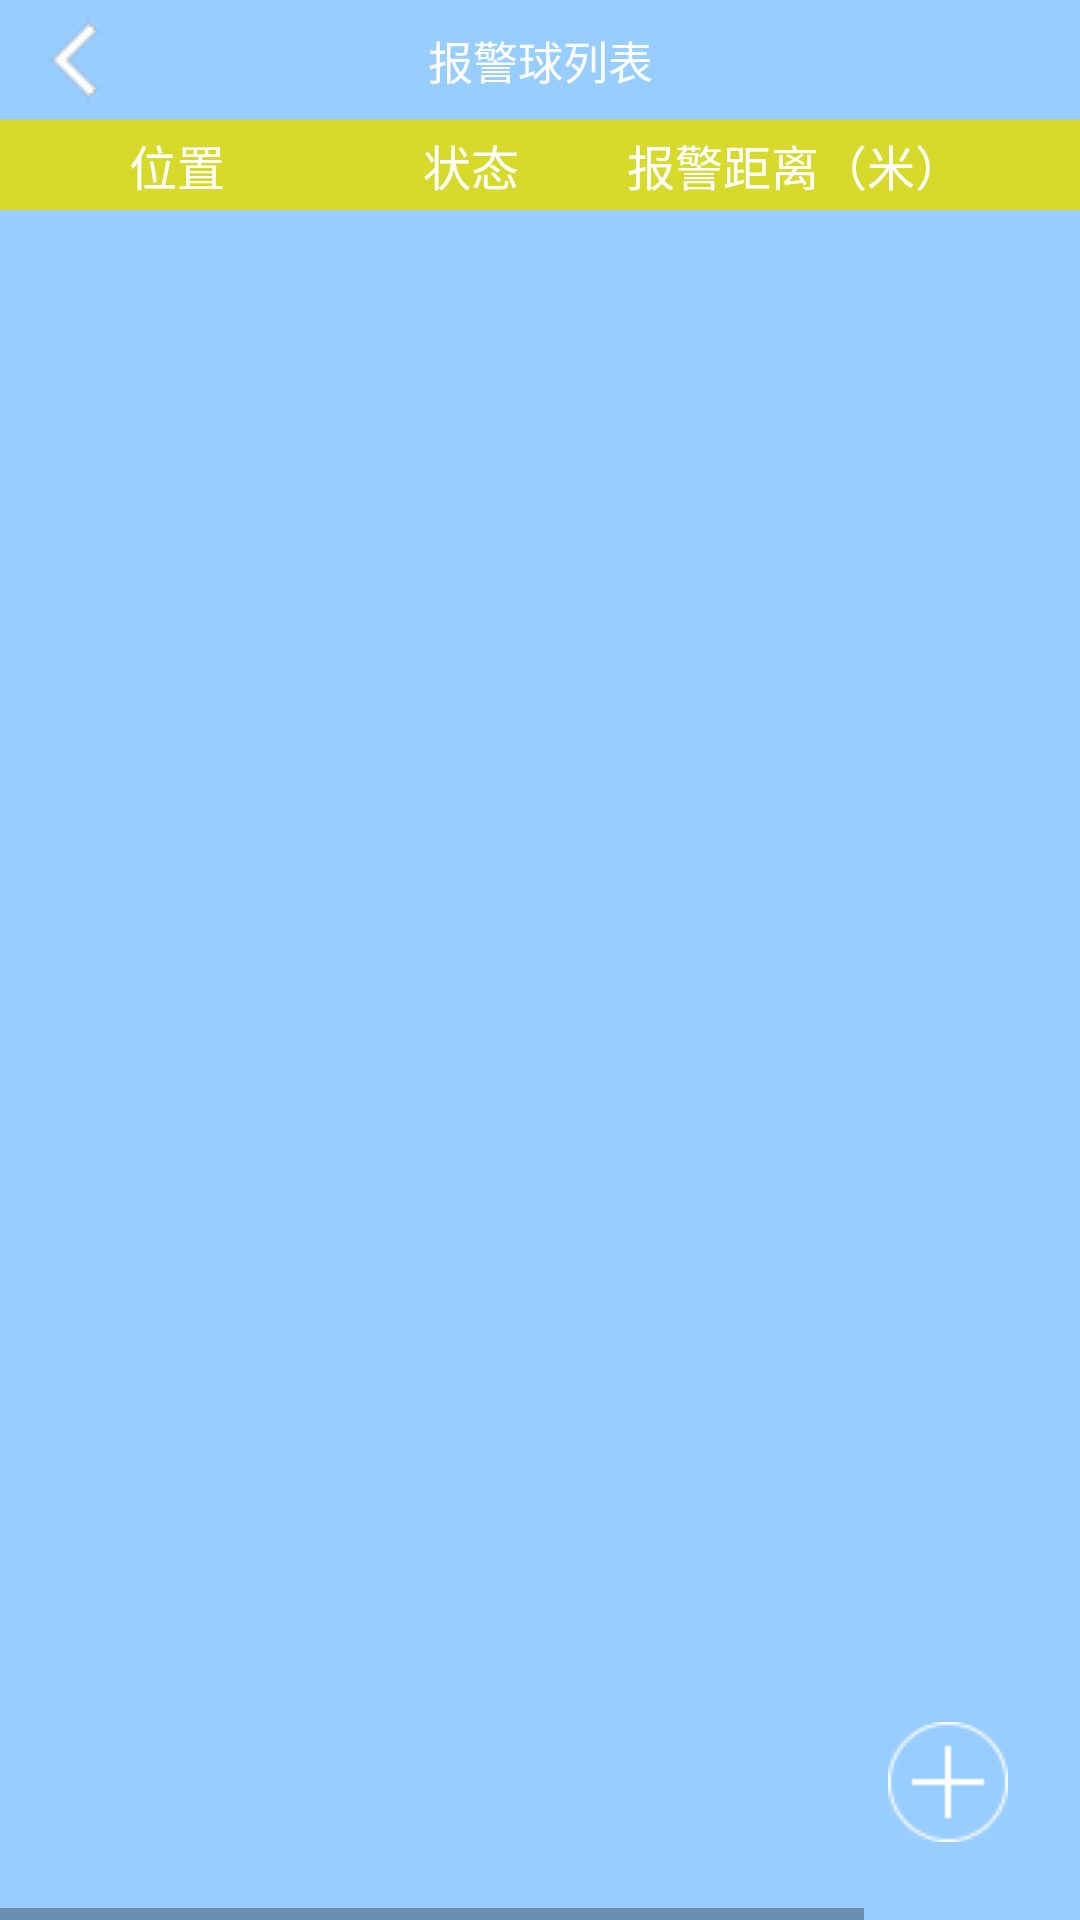

Where icons sit on this 1080×1920 app screen, as (x1, y1, x2, y2):
addball change: (888, 1722, 1008, 1842)
backward change: (54, 24, 96, 96)
